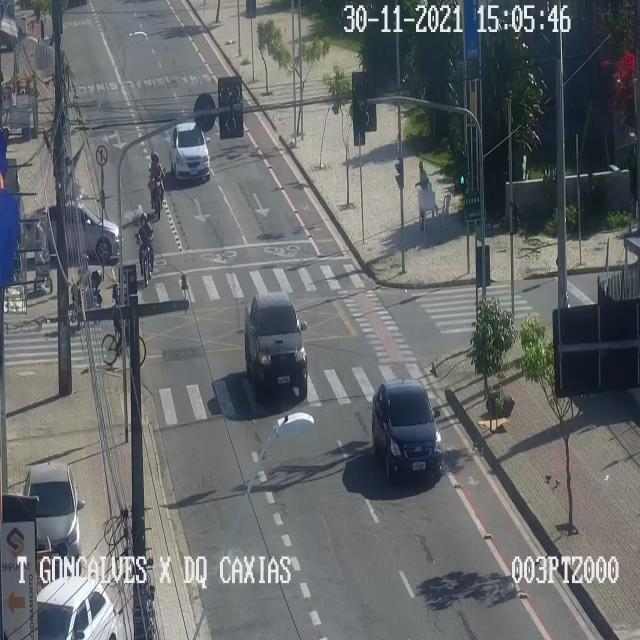Car: (372, 379, 440, 477), (245, 292, 307, 398), (26, 464, 80, 574), (36, 575, 116, 639), (26, 204, 120, 258), (171, 121, 209, 178)
Motorcycle: (69, 255, 101, 323), (137, 212, 153, 284), (149, 151, 164, 218)
